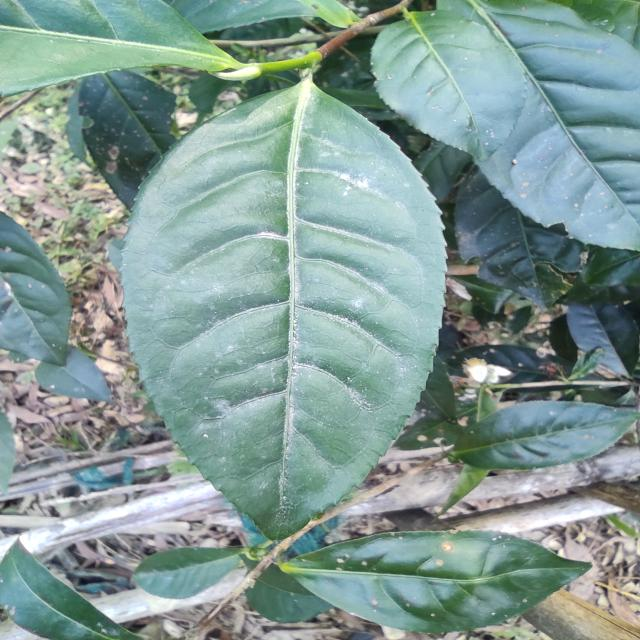Category D(7+ days, Not for Tea): (111, 80, 454, 539)
